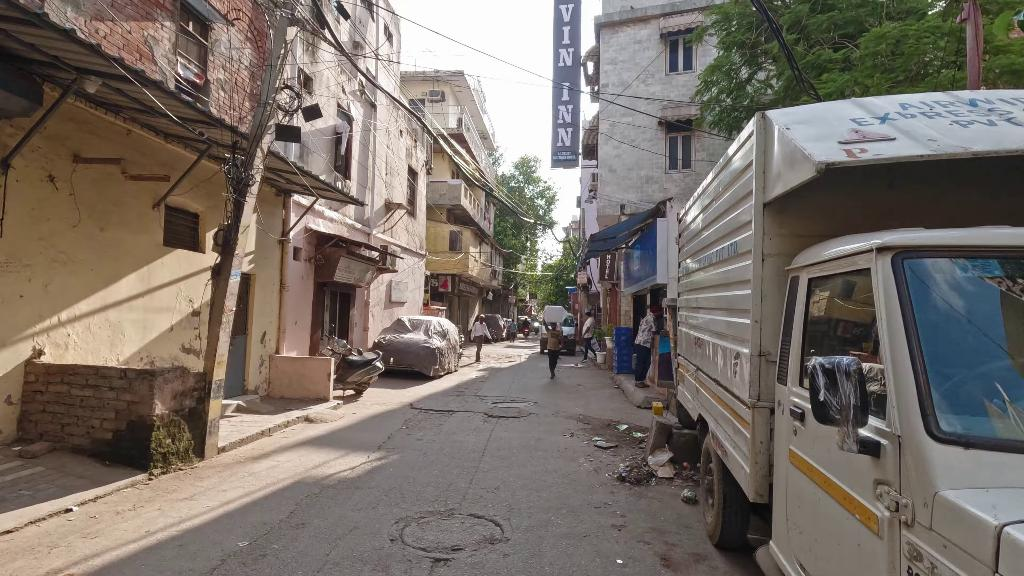garbage: (648, 447, 675, 481), (677, 491, 699, 501), (631, 427, 646, 439), (592, 435, 608, 445), (617, 423, 628, 431)
